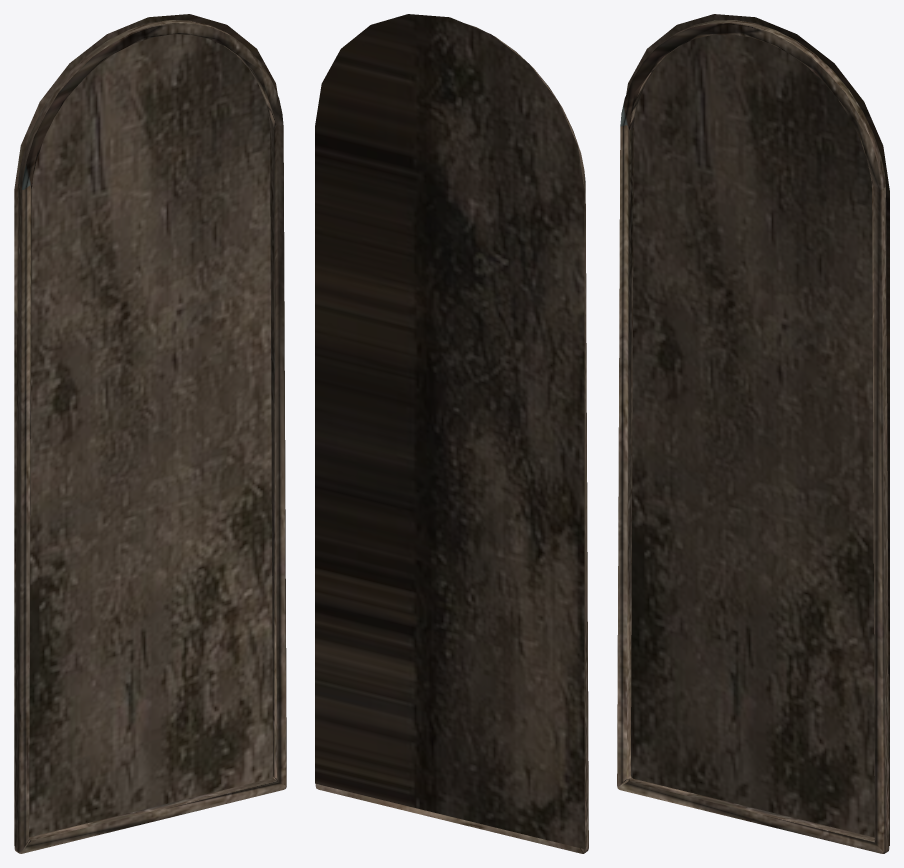
The model's file is Mirror 1.fbx.
3 renders of one model, left to right at view 1: azimuth 30°, elevation 25°; view 2: azimuth 150°, elevation 25°; view 3: azimuth 330°, elevation 25°, orthographic.
Parts seen in each view (by area): view 1: mirrorBMirror; view 2: mirrorBMirror; view 3: mirrorBMirror.
Boxes of the visible parts, <box> form: mirrorBMirror: <box>14,14,286,853</box>; mirrorBMirror: <box>315,14,588,853</box>; mirrorBMirror: <box>617,14,889,853</box>.
Bounding box in the file's own units: 60.01 × 171 × 2.13.
